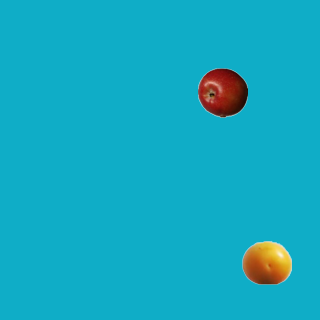Apple Braeburn: (197, 67, 247, 117)
Cherry Wax Yellow: (241, 237, 291, 287)
